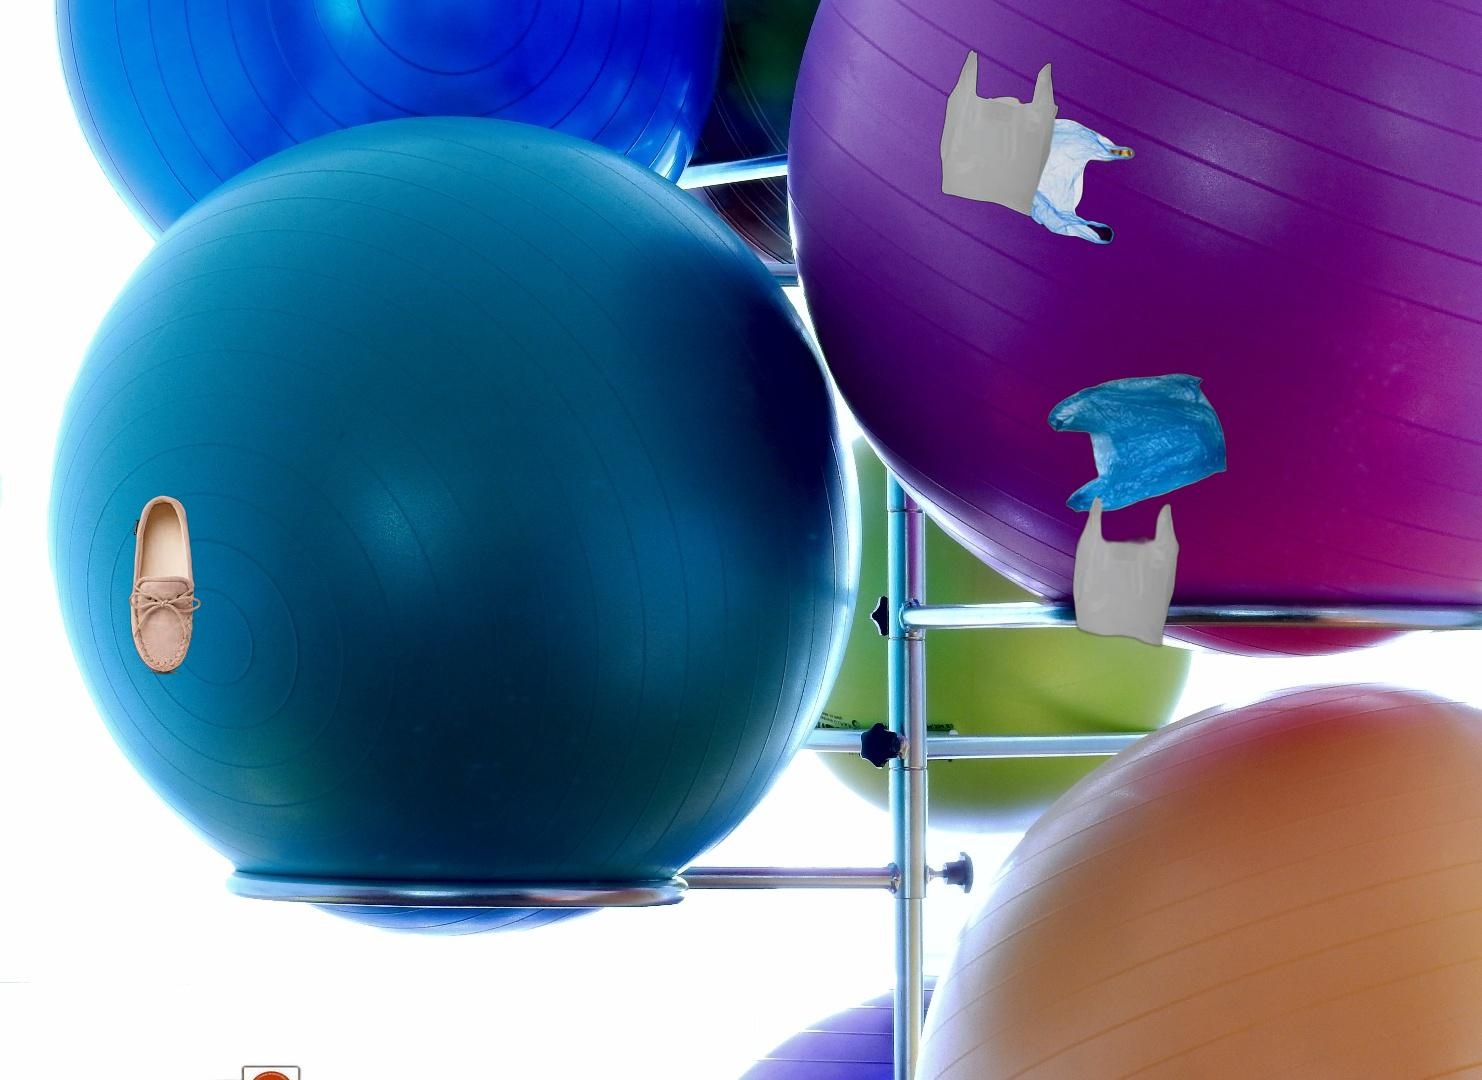biological: (43, 1060, 682, 1080)
plastic-bag: (1044, 372, 1230, 650), (937, 47, 1183, 247)
shoes: (125, 492, 204, 677)
